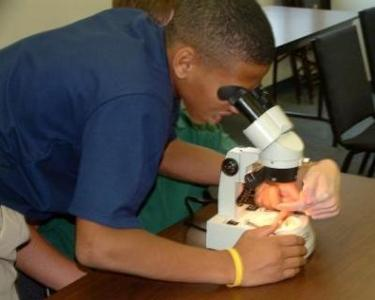person: (2, 3, 343, 293)
